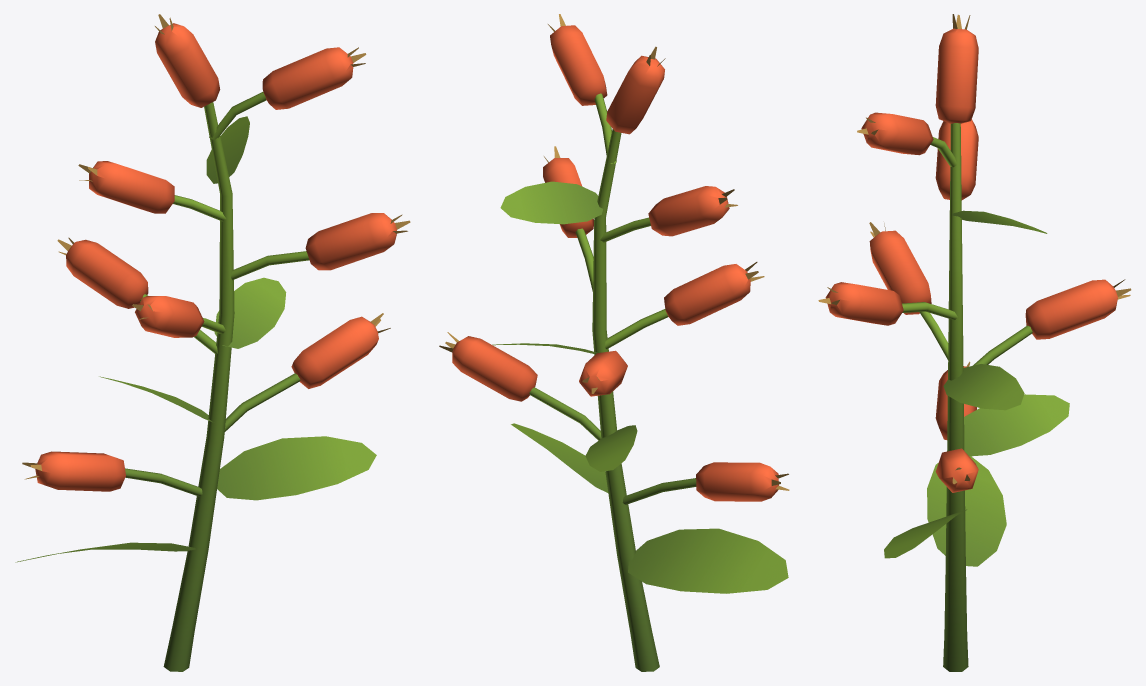
Rendered from Red+flower.fbx.
3 views of the same model, side by side, from view 1: azimuth 30°, elevation 25°; view 2: azimuth 150°, elevation 25°; view 3: azimuth 270°, elevation 25° (orthographic). The views are drawn at different scales.
Visible parts, largest first — view 1: Red flower; view 2: Red flower; view 3: Red flower.
Part boxes in pixels (box(x1,y1,x2,y2)): Red flower: box(15, 14, 410, 671); Red flower: box(439, 14, 789, 671); Red flower: box(818, 14, 1131, 671).
Size of the model in its own units: 28.16 by 47.69 by 20.82.
